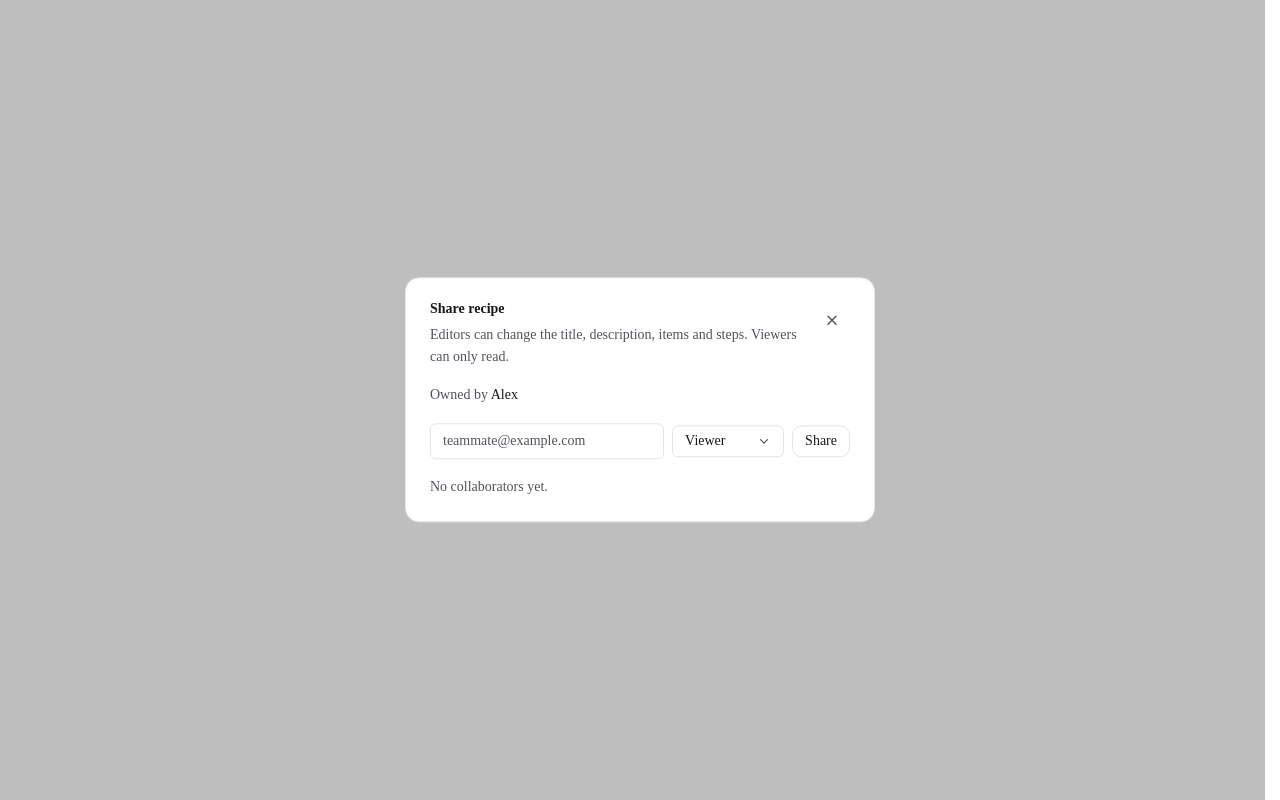
the share dialog's guest links › shows a share error instead of an invite
In the field with placeholder "teammate@example.com": [547, 442] box [430,424,664,460], type "guest@example.com"
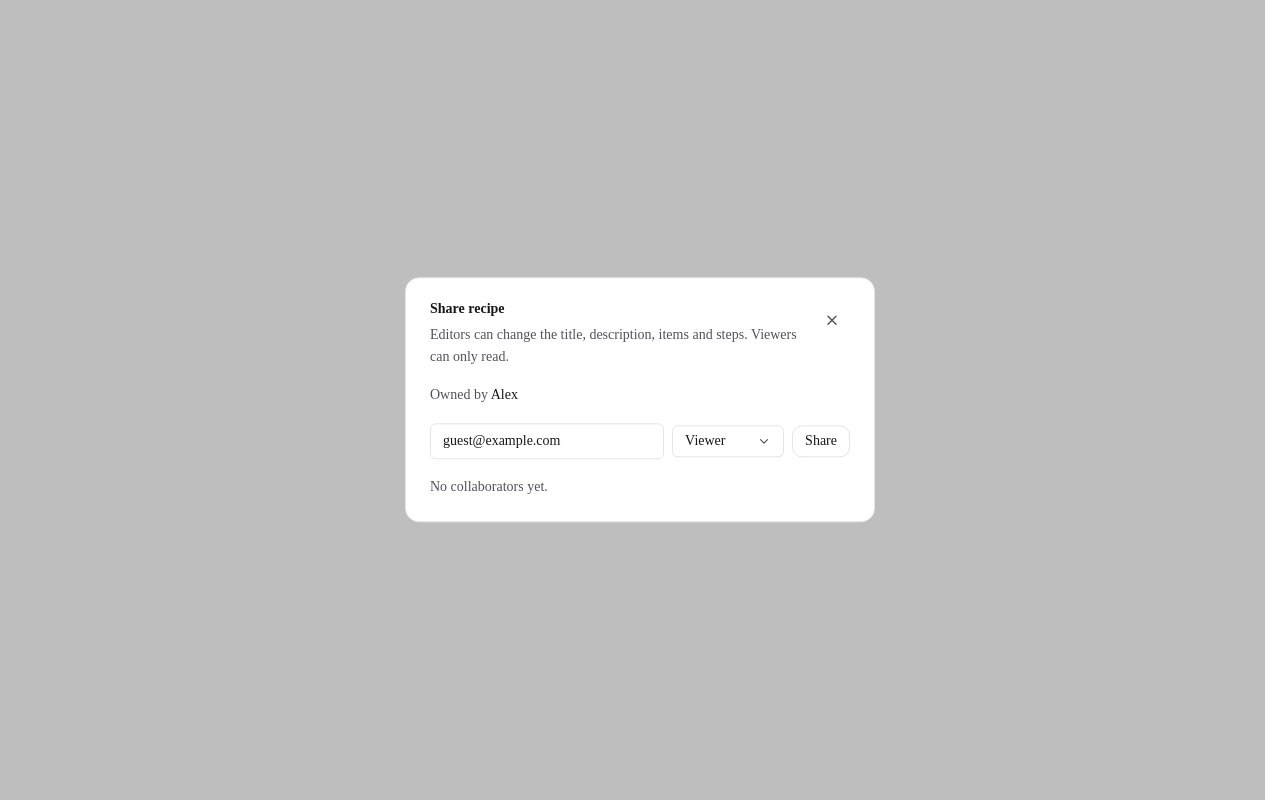
Click the button "Share": [821, 442] box [792,426,850,458]
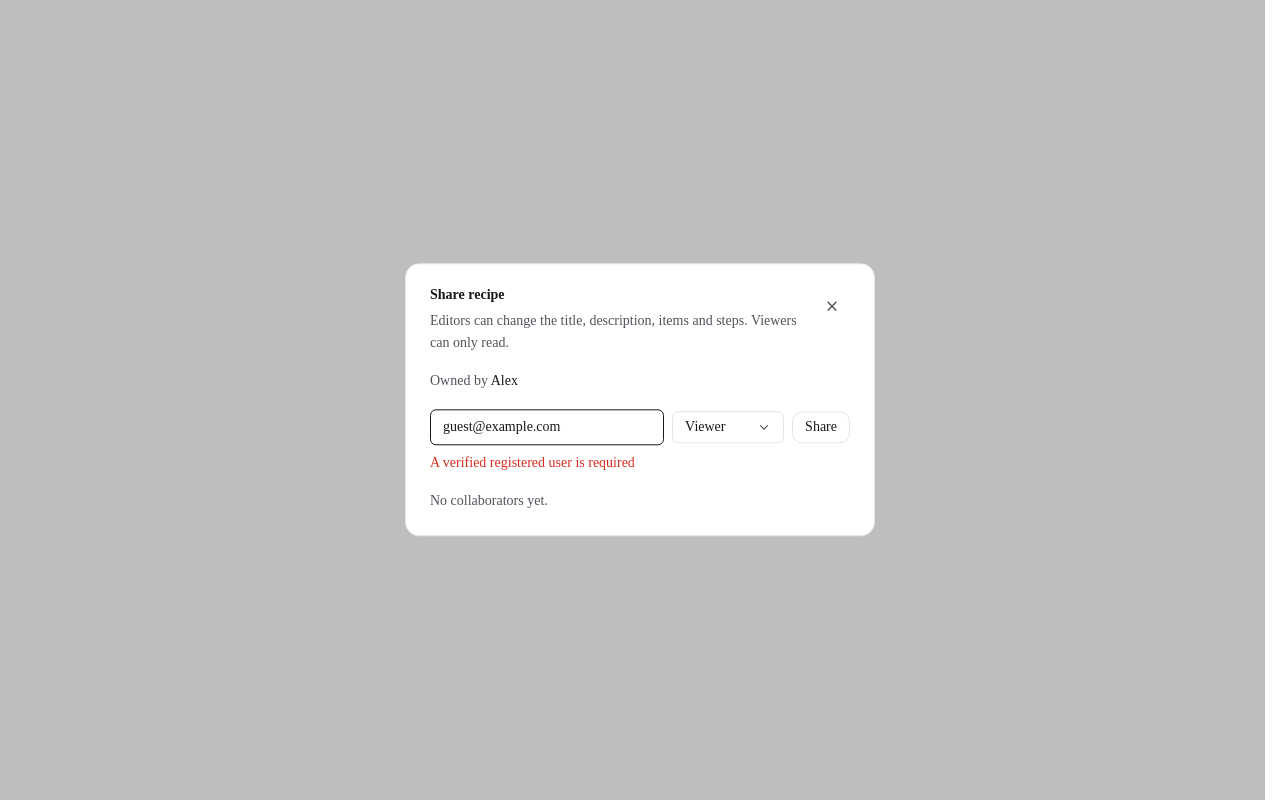
Check: the message reads "A verified registered user is required", box [430,456,635,471]
